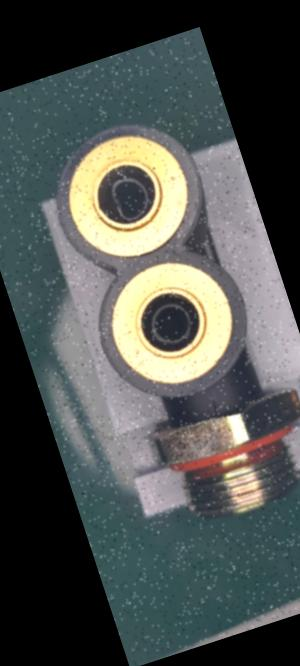craze: (203, 393, 225, 422)
off-centered: (96, 167, 161, 229)
